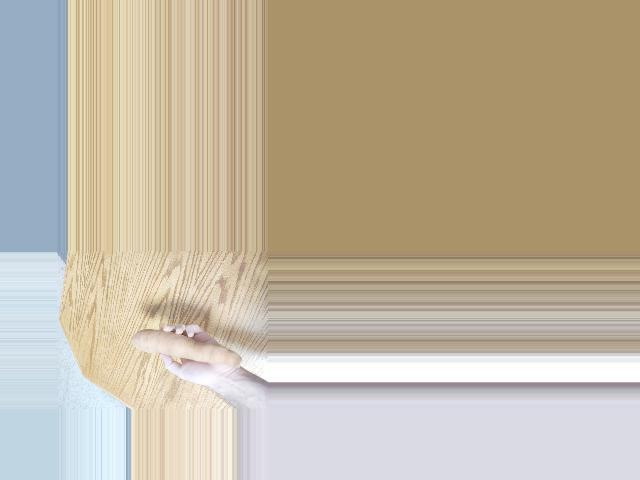sweet_potato: (126, 323, 235, 371)
